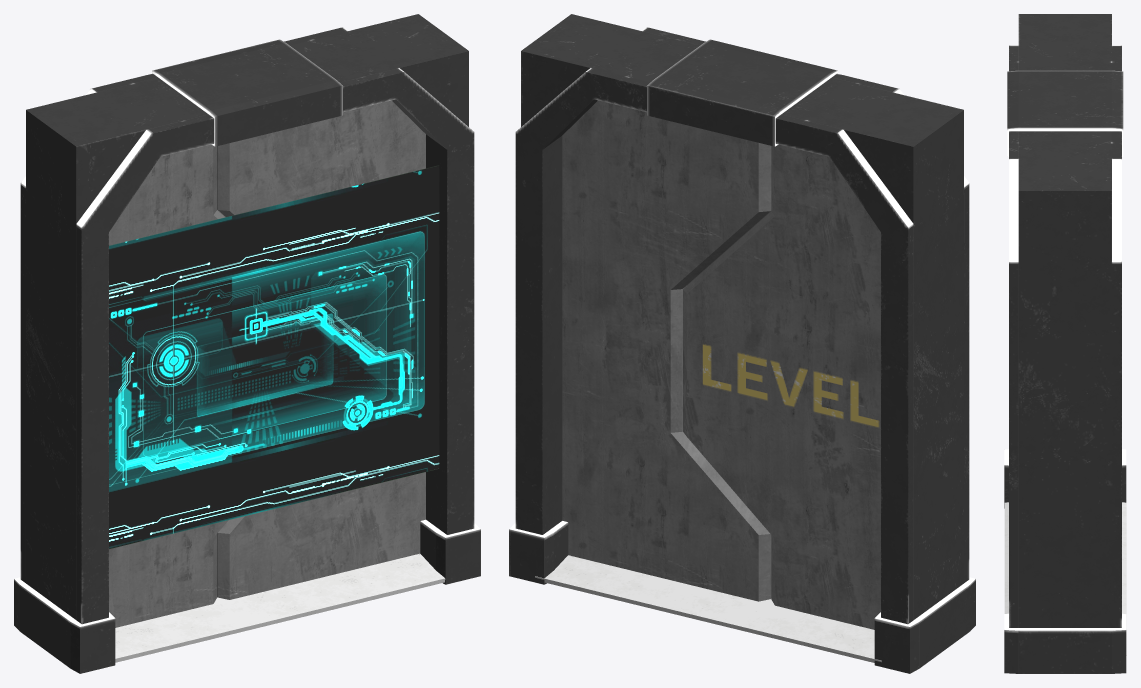
File: person door.fbx
3 views of the same model, side by side, from view 1: azimuth 30°, elevation 25°; view 2: azimuth 150°, elevation 25°; view 3: azimuth 270°, elevation 25° (orthographic). The views are drawn at different scales.
Visible parts, largest first — view 1: Person door, info panel, door 2, door 1; view 2: Person door, door 2, door 1; view 3: Person door.
Boxes of the visible parts, x1,y1,x2,y2 form: Person door: [14, 14, 480, 673]; info panel: [109, 165, 439, 549]; door 2: [217, 100, 425, 599]; door 1: [109, 144, 227, 627]; Person door: [509, 14, 975, 673]; door 2: [562, 100, 771, 601]; door 1: [683, 144, 880, 629]; Person door: [1004, 14, 1126, 673].
Size of the model in its own units: 573 by 711 by 162.
